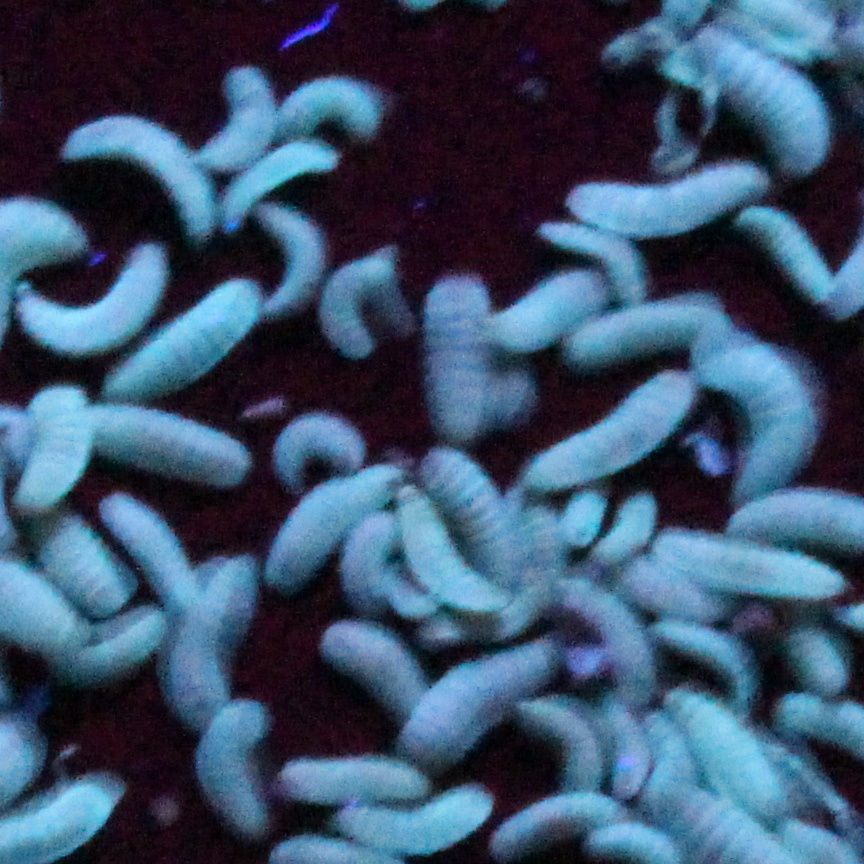larve: (720, 339, 856, 481), (397, 646, 562, 746), (533, 589, 672, 703), (96, 399, 250, 500), (65, 107, 191, 230), (560, 161, 756, 228), (324, 234, 414, 378), (665, 710, 780, 817), (18, 261, 154, 351), (501, 781, 637, 860), (277, 61, 396, 143), (249, 202, 322, 330), (171, 278, 251, 394), (512, 410, 695, 460), (568, 316, 716, 376), (199, 710, 266, 839), (672, 624, 772, 710), (266, 481, 342, 593), (271, 393, 361, 484), (197, 58, 276, 160), (344, 792, 494, 842), (26, 387, 87, 508), (183, 560, 233, 706), (487, 262, 610, 321), (729, 58, 813, 144), (768, 208, 827, 314), (276, 762, 418, 805), (438, 284, 478, 436), (141, 500, 194, 604), (651, 552, 825, 583), (455, 469, 505, 563), (348, 520, 397, 613), (534, 228, 666, 260), (60, 526, 111, 607), (410, 491, 445, 599), (611, 487, 655, 551), (561, 482, 601, 551), (270, 147, 336, 184)
